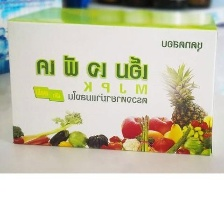book: (0, 0, 220, 161)
